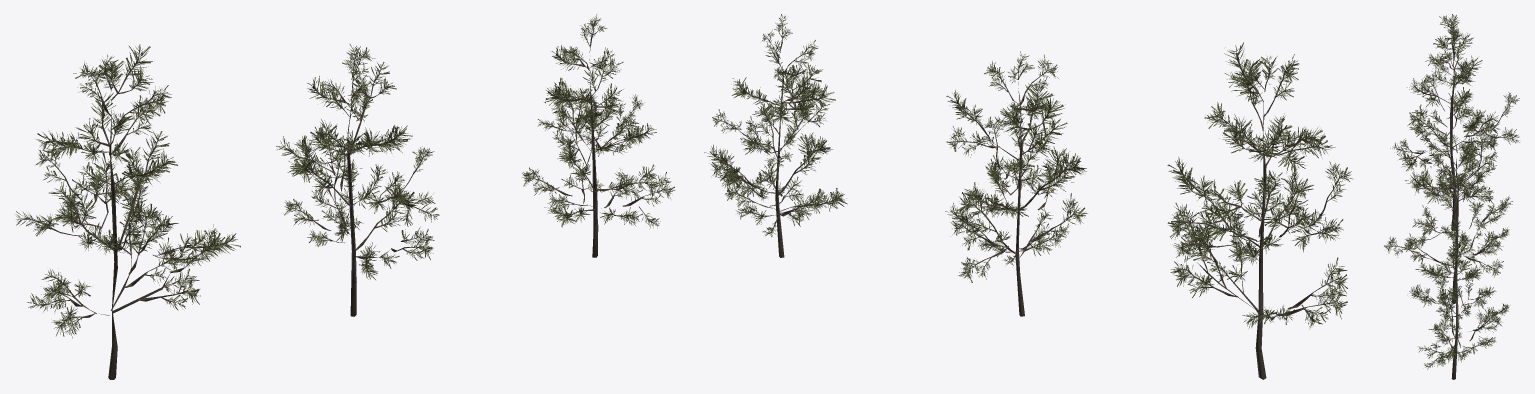
File: pine_sapling_small.glb
3 views of the same model, side by side, from view 1: azimuth 30°, elevation 25°; view 2: azimuth 150°, elevation 25°; view 3: azimuth 270°, elevation 25° (orthographic). The views are drawn at different scales.
Visible parts, largest first — view 1: pine_sapling_small_a, pine_sapling_small_b, pine_sapling_small_c; view 2: pine_sapling_small_a, pine_sapling_small_b, pine_sapling_small_c; view 3: pine_sapling_small_a, pine_sapling_small_b, pine_sapling_small_c.
Part boxes in pixels (box(x1,y1,x2,y2)): pine_sapling_small_a: box(16, 44, 240, 379); pine_sapling_small_b: box(276, 44, 439, 316); pine_sapling_small_c: box(522, 14, 675, 257); pine_sapling_small_a: box(1167, 42, 1353, 379); pine_sapling_small_b: box(945, 51, 1087, 316); pine_sapling_small_c: box(704, 14, 847, 257); pine_sapling_small_a: box(1390, 14, 1519, 230); pine_sapling_small_b: box(1384, 134, 1512, 303); pine_sapling_small_c: box(1409, 223, 1509, 379).
Size of the model in its own units: 2.64 by 1.3 by 0.7699.
Materials: 2 (2 with a texture image).
